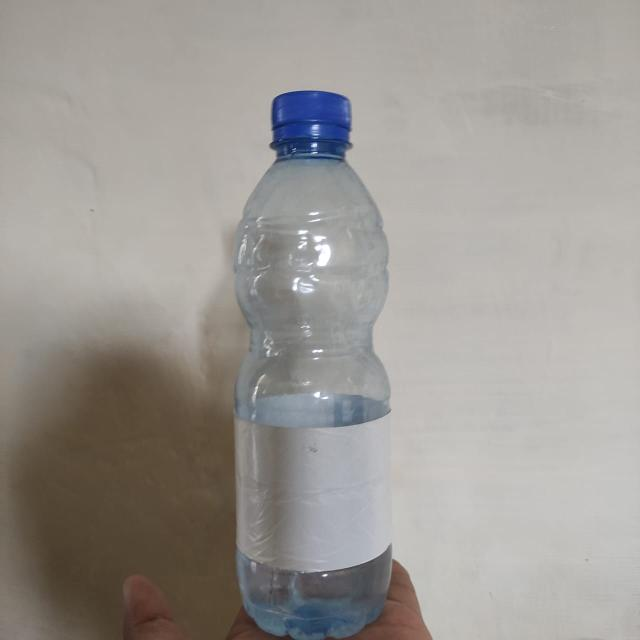bottle: (233, 91, 389, 640)
cap: (265, 90, 355, 152)
label: (233, 422, 387, 566)
